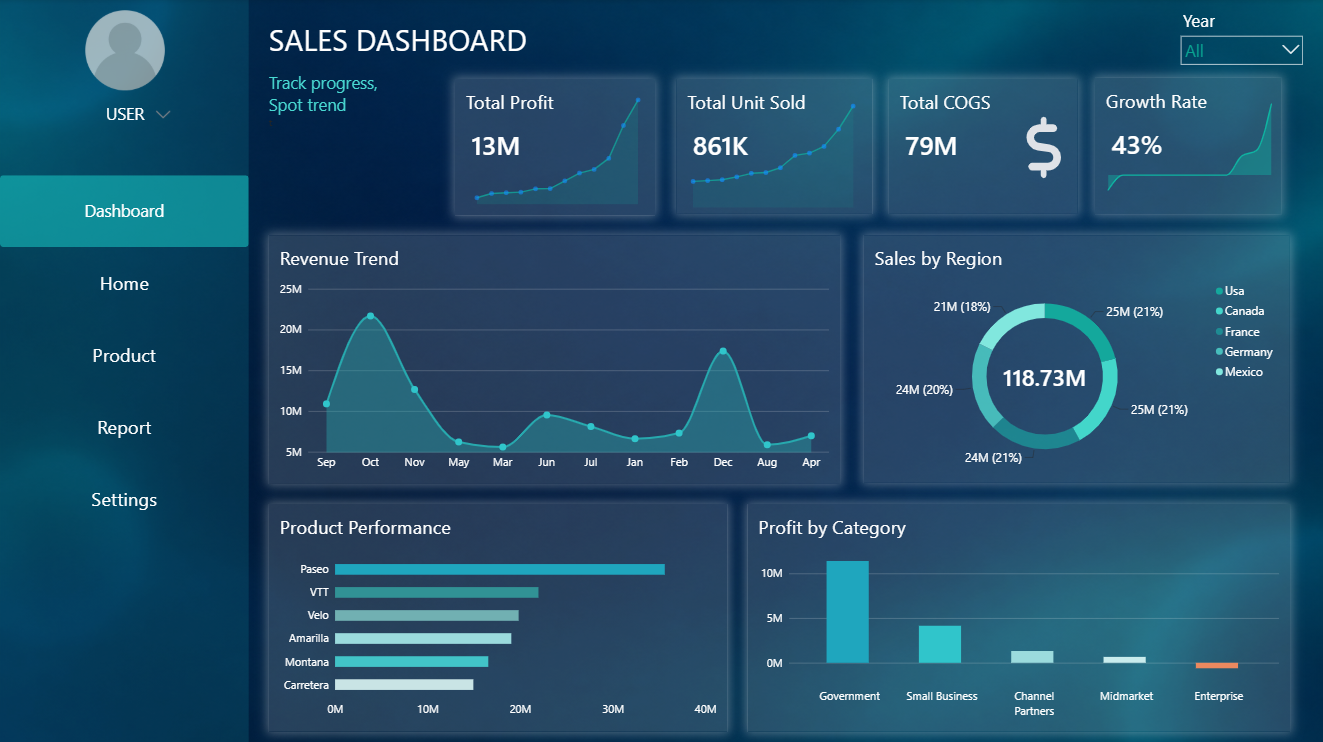

This screenshot's page, from the dashboard's own definition file:
{"tool":"powerbi","page":{"name":"Dashboard","canvas":[1920,1080],"ordinal":0},"visuals":[{"type":"shape","box":[0.3,0,360.2,1080.6],"z":0,"group":"g1"},{"type":"group","id":"g1","title":"Group 2","box":[0.3,0,360.2,1080.6],"z":0,"group":"g2"},{"type":"textbox","box":[84.4,150.2,191.8,36.2],"z":0,"group":"g7"},{"type":"donutChart","title":"Sales by Region","fields":{"Category":["Table4.Country"],"Y":["Sum(Table4. Sales)"]},"box":[1250.5,342,617.1,358.3],"z":0},{"type":"image","box":[85,16.3,191.8,115.8],"z":1000,"group":"g7"},{"type":"textbox","box":[99.2,99.5,177.3,63.3],"z":1000,"group":"g2"},{"type":"lineChart","title":"Revenue Trend","fields":{"Category":["Table4.Month Name"],"Y":["Sum(Table4. Sales)"]},"box":[389.1,342,827,360.1],"z":1000},{"type":"image","box":[188.2,155.6,95.9,23.5],"z":2000,"group":"g7"},{"type":"barChart","title":"Product Performance","fields":{"Category":["Table4.Product"],"Y":["Sum(Table4.Gross Sales)"]},"box":[389.1,731.1,664.1,329.4],"z":2000},{"type":"clusteredColumnChart","title":"Profit by Category","fields":{"Category":["Table4.Segment"],"Y":["Sum(Table4.Profit)"]},"box":[1082.2,731.1,785.4,329.4],"z":3000},{"type":"kpi","title":"Growth Rate","fields":{"Indicator":["Table4.Growth Rate %"],"TrendLine":["Table4.Month Name"]},"box":[1585.3,114,269.6,197.3],"z":4000},{"type":"kpi","title":"Total Profit","fields":{"Indicator":["Sum(Table4.Profit)"],"TrendLine":["Table4.Year"]},"box":[658.7,115.8,289.5,197.3],"z":4000,"group":"g4"},{"type":"group","id":"g2","title":"Group 1","box":[0.3,0,360.2,1080.6],"z":5000},{"type":"kpi","title":"Total Unit Sold","fields":{"Indicator":["Sum(Table4.Units Sold)"],"TrendLine":["Table4.Year"]},"box":[979,115.8,284.1,195.4],"z":5000,"group":"g5"},{"type":"slicer","fields":{"Values":["Table4.Year"]},"box":[1704.7,12.7,186.4,83.2],"z":6000},{"type":"kpi","title":"Total COGS","fields":{"Indicator":["Sum(Table4.COGS)"],"TrendLine":["Table4.Year"]},"box":[1286.7,115.8,273.3,195.4],"z":6000,"group":"g6"},{"type":"textbox","box":[389.1,29,396.3,188.2],"z":7000},{"type":"group","id":"g3","title":"Group 3","box":[84.4,16.3,199.7,170.1],"z":8000},{"type":"lineChart","fields":{"Category":["Table4.Month Name"],"Y":["Table4.Growth Rate %"]},"box":[1579.8,106.8,282.3,206.3],"z":9000},{"type":"group","id":"g4","title":"Group 5","box":[658.7,115.8,289.5,197.3],"z":10000},{"type":"pageNavigator","box":[0.3,255.2,360.2,520.8],"z":10000,"group":"g1"},{"type":"group","id":"g5","title":"Group 6","box":[979,95.9,284.1,222.6],"z":11000},{"type":"group","id":"g6","title":"Group 7","box":[1286.7,115.8,311.3,195.4],"z":12000},{"type":"lineChart","fields":{"Category":["Table4.Month Name"],"Y":["Table4.Total Profit"]},"box":[665.9,119.4,282.3,193.6],"z":12000,"group":"g4"},{"type":"lineChart","fields":{"Category":["Table4.Month Name"],"Y":["Sum(Table4.Units Sold)"]},"box":[979,95.9,280.5,222.6],"z":13000,"group":"g5"},{"type":"image","box":[1424.2,158.8,173.7,111.2],"z":14000,"group":"g6"},{"type":"group","id":"g7","title":"Group 4","box":[84.4,16.3,199.7,170.1],"z":14002,"group":"g3"}]}

Visuals, with their boxes in screenshot pixels (x1, y1, x2, y2), scaled from the page's 1920x1080 canvas onto the 1323x742 screenshot:
shape: [x1=0, y1=0, x2=248, y2=741]
"Group 2" group: [x1=0, y1=0, x2=248, y2=741]
textbox: [x1=58, y1=103, x2=190, y2=128]
"Sales by Region" donutChart: [x1=862, y1=235, x2=1287, y2=481]
image: [x1=59, y1=11, x2=191, y2=91]
textbox: [x1=68, y1=68, x2=191, y2=112]
"Revenue Trend" lineChart: [x1=268, y1=235, x2=838, y2=482]
image: [x1=130, y1=107, x2=196, y2=123]
"Product Performance" barChart: [x1=268, y1=502, x2=726, y2=729]
"Profit by Category" clusteredColumnChart: [x1=746, y1=502, x2=1287, y2=729]
"Growth Rate" kpi: [x1=1092, y1=78, x2=1278, y2=214]
"Total Profit" kpi: [x1=454, y1=80, x2=653, y2=215]
"Group 1" group: [x1=0, y1=0, x2=248, y2=741]
"Total Unit Sold" kpi: [x1=675, y1=80, x2=870, y2=214]
slicer - Table4.Year: [x1=1175, y1=9, x2=1303, y2=66]
"Total COGS" kpi: [x1=887, y1=80, x2=1075, y2=214]
textbox: [x1=268, y1=20, x2=541, y2=149]
"Group 3" group: [x1=58, y1=11, x2=196, y2=128]
lineChart - Table4.Month Name x Table4.Growth Rate %: [x1=1089, y1=73, x2=1283, y2=215]
"Group 5" group: [x1=454, y1=80, x2=653, y2=215]
pageNavigator: [x1=0, y1=175, x2=248, y2=533]
"Group 6" group: [x1=675, y1=66, x2=870, y2=219]
"Group 7" group: [x1=887, y1=80, x2=1101, y2=214]
lineChart - Table4.Month Name x Table4.Total Profit: [x1=459, y1=82, x2=653, y2=215]
lineChart - Table4.Month Name x Sum(Table4.Units Sold): [x1=675, y1=66, x2=868, y2=219]
image: [x1=981, y1=109, x2=1101, y2=186]
"Group 4" group: [x1=58, y1=11, x2=196, y2=128]
